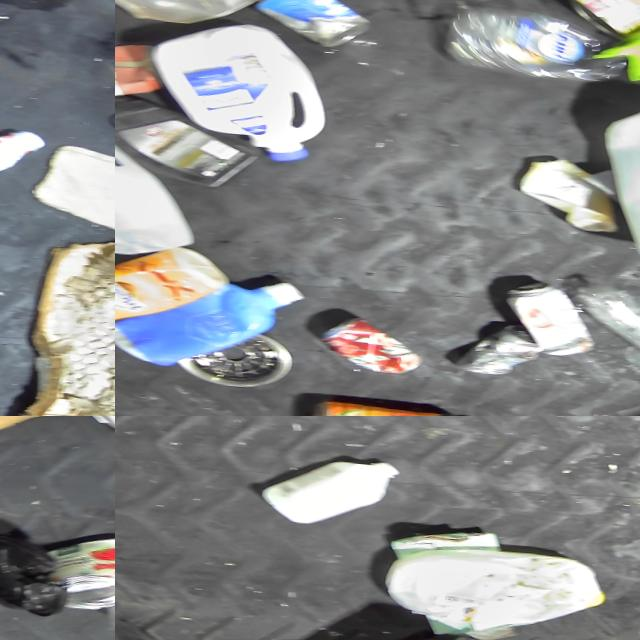can: (508, 267, 602, 344), (330, 310, 431, 372), (42, 529, 115, 609), (258, 0, 381, 45), (469, 312, 550, 371), (574, 0, 640, 25)
milk_jug: (149, 17, 332, 158), (115, 122, 210, 256), (272, 447, 412, 523), (598, 73, 640, 250)
non_white_jug: (115, 258, 308, 363), (115, 241, 234, 334)
